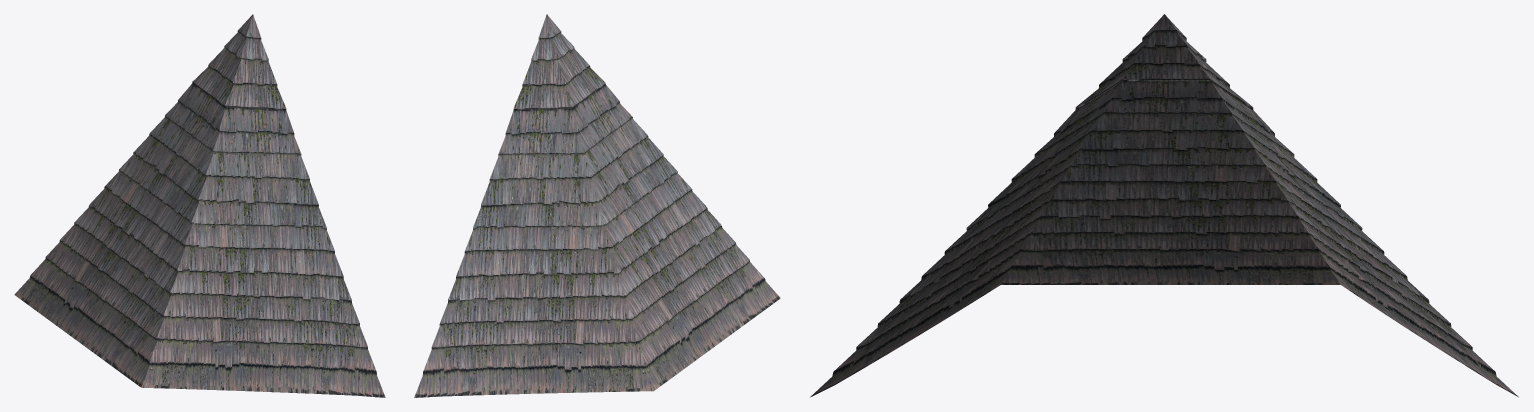
Rendered from sm_Roof_01_04.fbx.
3 views of the same model, side by side, from view 1: azimuth 30°, elevation 25°; view 2: azimuth 150°, elevation 25°; view 3: azimuth 270°, elevation 25° (orthographic). The views are drawn at different scales.
Visible parts, largest first — view 1: sm_Roof_01_04_LOD0; view 2: sm_Roof_01_04_LOD0; view 3: sm_Roof_01_04_LOD0.
Part boxes in pixels (<box>): sm_Roof_01_04_LOD0: <box>14,14,385,397</box>; sm_Roof_01_04_LOD0: <box>414,14,780,397</box>; sm_Roof_01_04_LOD0: <box>810,14,1518,397</box>.
Bounding box in the file's own units: 290 × 771 × 460.
